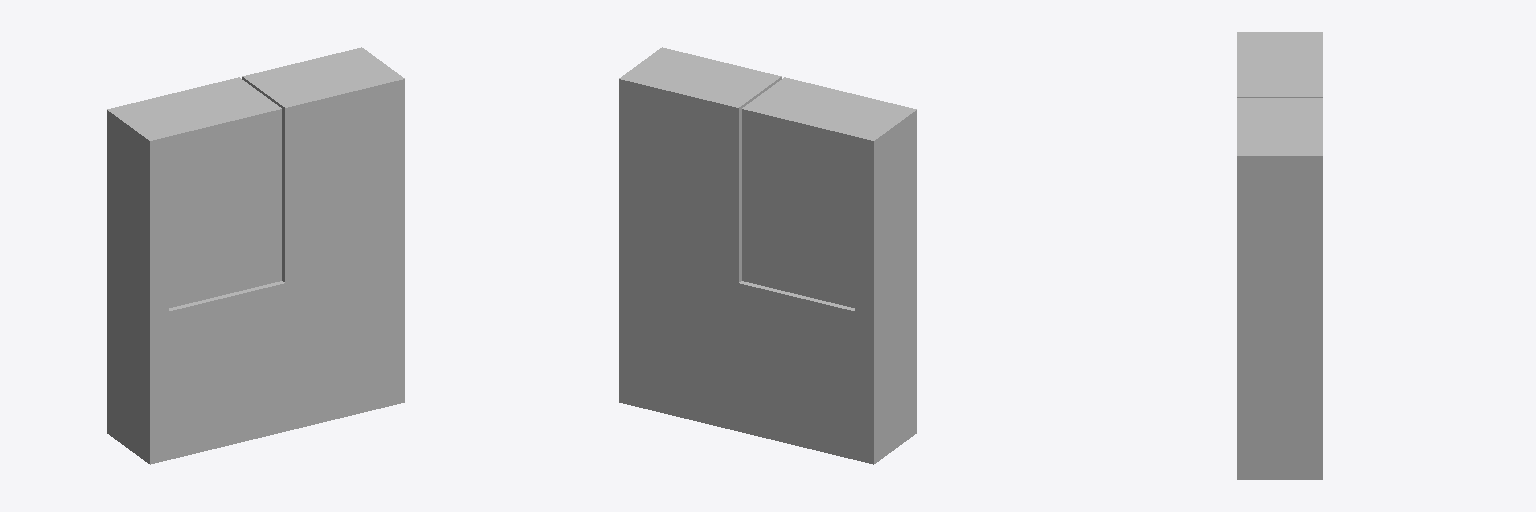
File: basement_even_ceiling.obj
3 views of the same model, side by side, from view 1: azimuth 30°, elevation 25°; view 2: azimuth 150°, elevation 25°; view 3: azimuth 270°, elevation 25° (orthographic).
Visible parts, largest first — view 1: Basement.001, Basement.002, Basement.006, Basement.005, Basement.012; view 2: Basement.007, Basement.002, Basement.006, Basement.005, Basement.012; view 3: Basement.004, Basement.006, Basement.005.
Boxes of the visible parts, x1=… form: Basement.001: x1=150, y1=79, x2=404, y2=464; Basement.002: x1=107, y1=110, x2=149, y2=463; Basement.006: x1=107, y1=77, x2=281, y2=140; Basement.005: x1=242, y1=47, x2=404, y2=107; Basement.012: x1=242, y1=77, x2=284, y2=281; Basement.007: x1=619, y1=79, x2=873, y2=464; Basement.002: x1=874, y1=110, x2=916, y2=463; Basement.006: x1=742, y1=77, x2=916, y2=140; Basement.005: x1=619, y1=47, x2=781, y2=107; Basement.012: x1=739, y1=77, x2=781, y2=281; Basement.004: x1=1237, y1=156, x2=1322, y2=479; Basement.006: x1=1237, y1=32, x2=1322, y2=96; Basement.005: x1=1237, y1=98, x2=1322, y2=155.
Bounding box in the file's own units: 8.67 × 10.5 × 2.54.